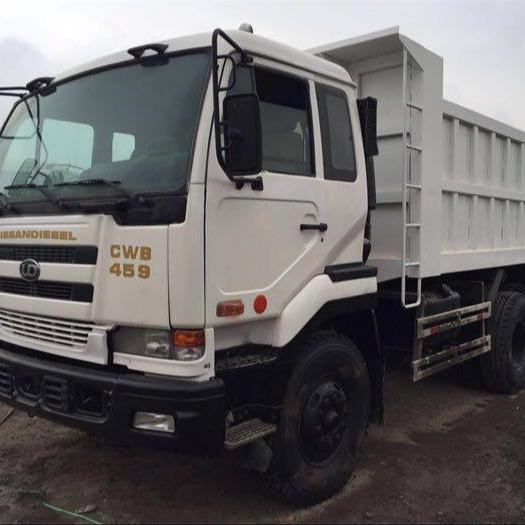truck: (0, 20, 525, 509)
